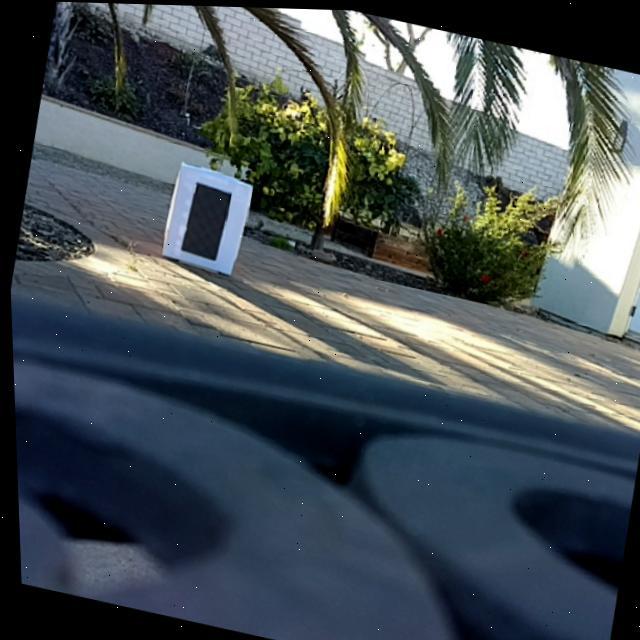led: (176, 177, 234, 263)
